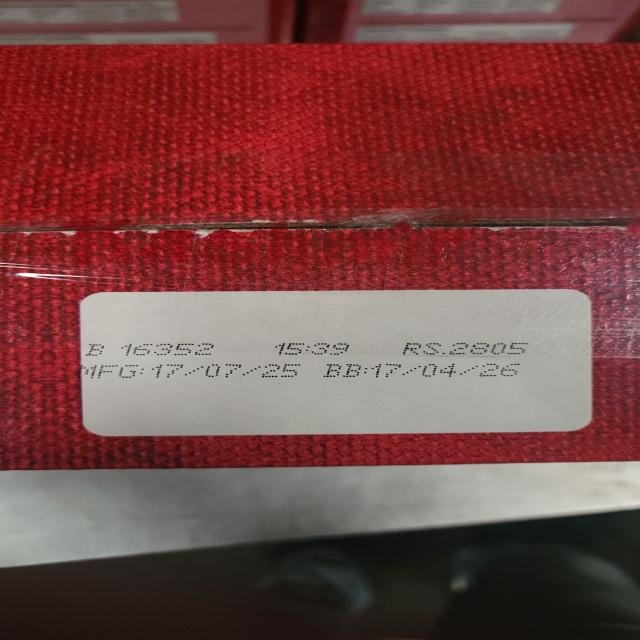BB: (326, 363, 526, 379)
Batch: (81, 343, 220, 356)
MFG: (83, 363, 303, 380)
RS: (400, 342, 530, 356)
TimeStamp: (273, 342, 354, 356)
